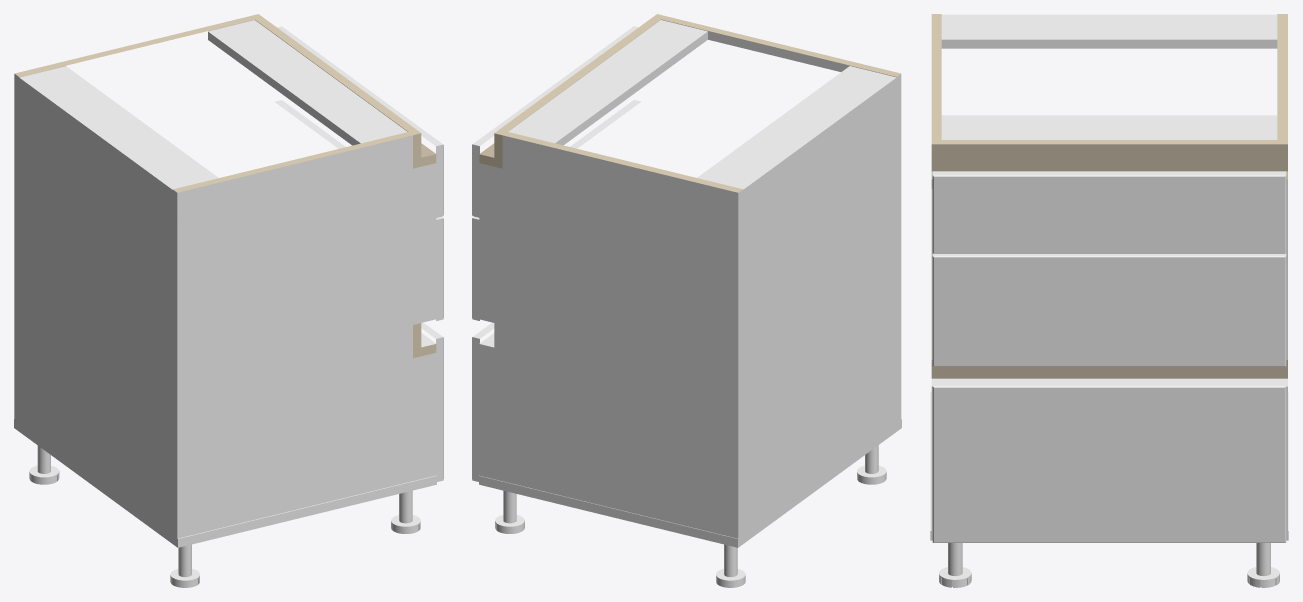
Rendered from fioke_60cm.glb.
3 views of the same model, side by side, from view 1: azimuth 30°, elevation 25°; view 2: azimuth 150°, elevation 25°; view 3: azimuth 270°, elevation 25° (orthographic). The views are drawn at different scales.
Parts seen in each view (by area): view 1: Group1; view 2: Group1; view 3: Group1.
Part boxes in pixels (x1,y1,x2,y2): Group1: (14, 14, 443, 587); Group1: (472, 14, 901, 587); Group1: (930, 14, 1288, 587).
Size of the model in its own units: 570 by 817 by 604.
